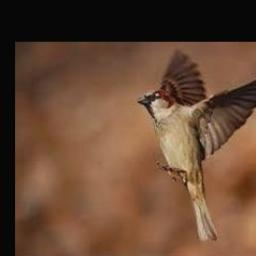Sparrow: (138, 49, 256, 242)
